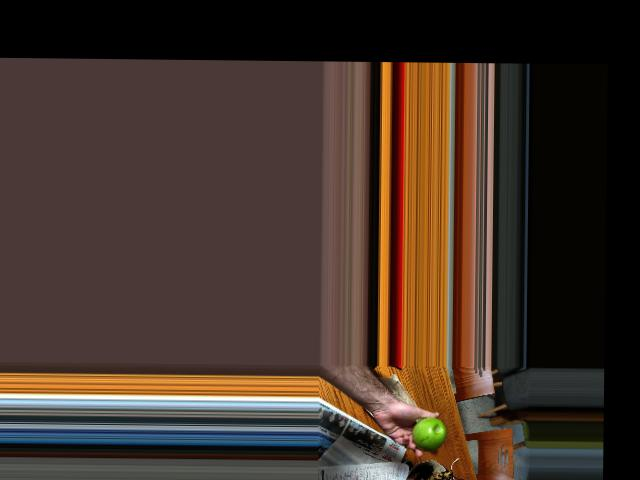apple: (409, 412, 449, 452)
